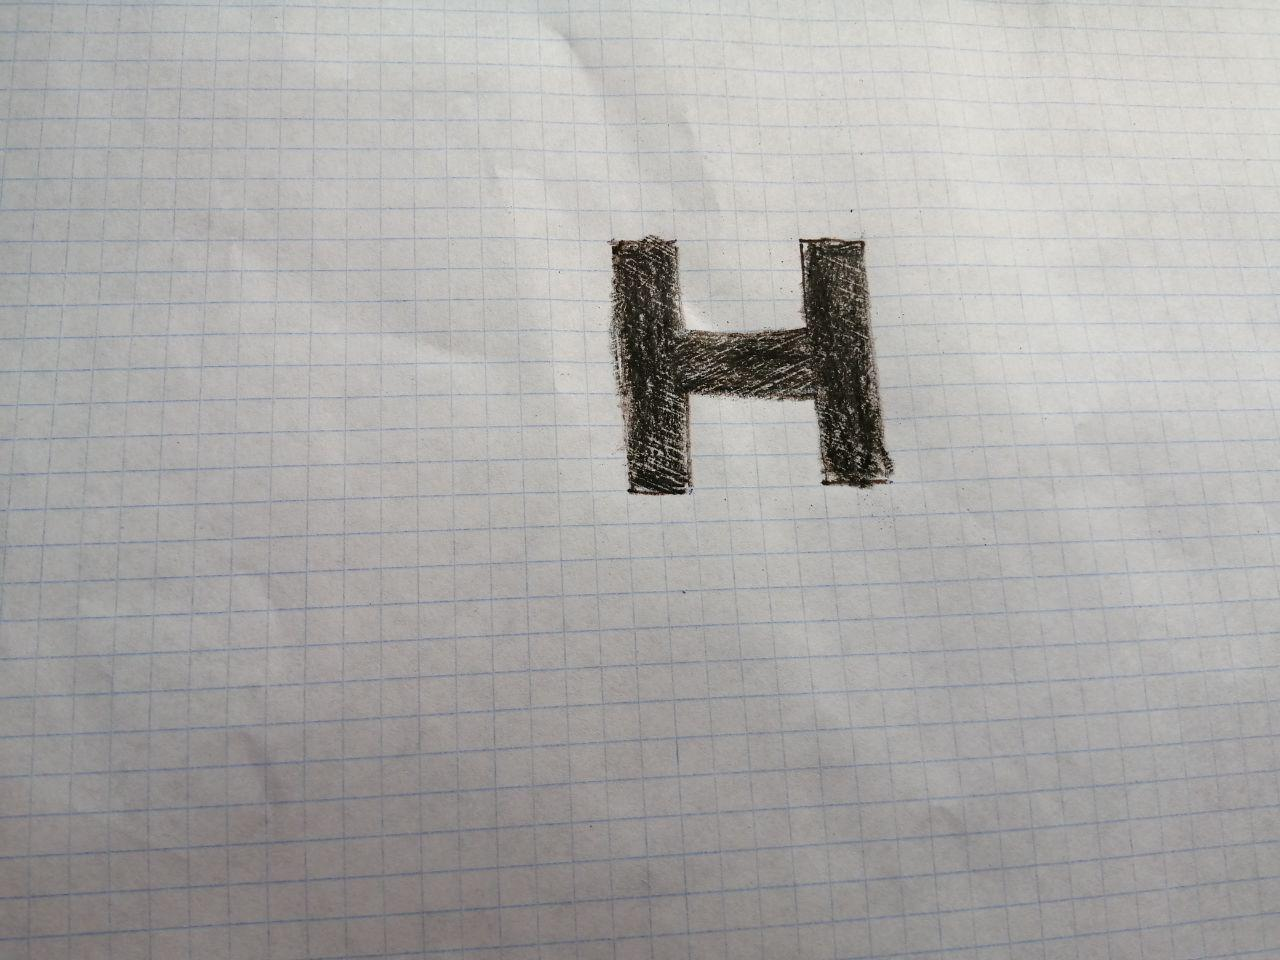h: (596, 228, 908, 503)
